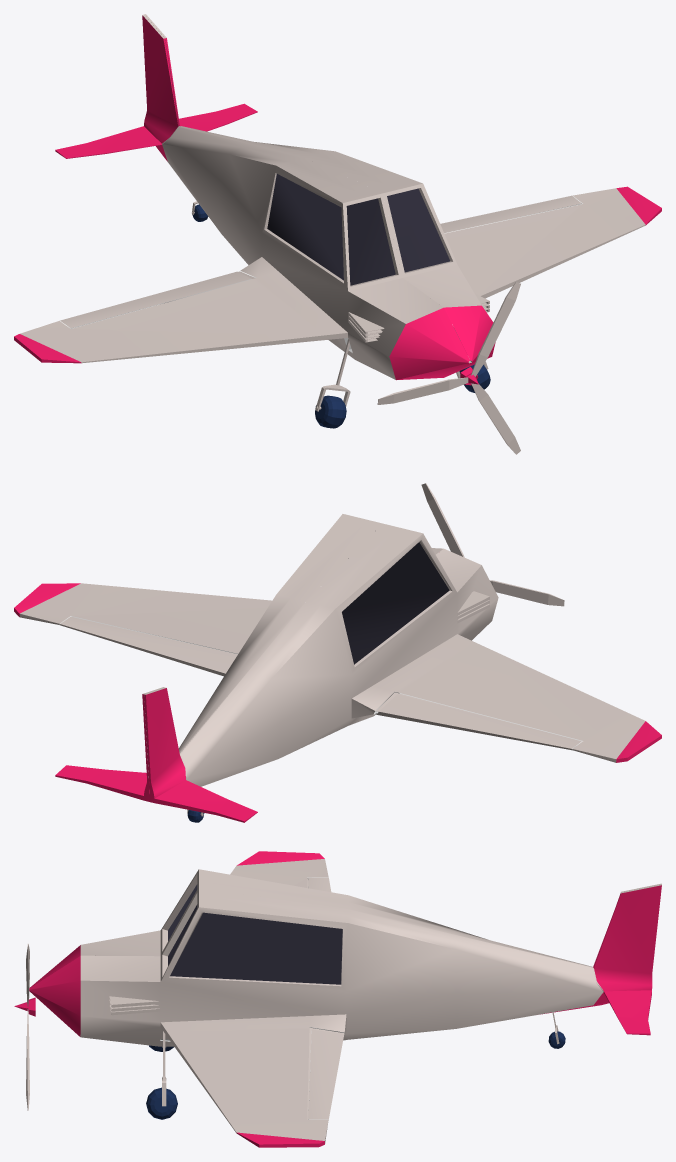
3 renders of one model, top to bottom at view 1: azimuth 30°, elevation 25°; view 2: azimuth 150°, elevation 25°; view 3: azimuth 270°, elevation 25°, orthographic. The views are drawn at different scales.
Parts seen in each view (by area): view 1: Cube_1_3, Propeller_1, Wheel_4; view 2: Cube_1_3, Propeller_1; view 3: Cube_1_3, Propeller_1, Wheel_2.
Boxes of the visible parts, bbox=[...] form: Cube_1_3: bbox=[14, 14, 661, 380]; Propeller_1: bbox=[377, 282, 520, 454]; Wheel_4: bbox=[315, 395, 346, 428]; Cube_1_3: bbox=[14, 514, 661, 822]; Propeller_1: bbox=[421, 483, 564, 606]; Cube_1_3: bbox=[29, 851, 661, 1147]; Propeller_1: bbox=[14, 943, 35, 1110]; Wheel_2: bbox=[146, 1087, 177, 1119].
Bounding box in the file's own units: 4.87 × 1.59 × 4.55.
